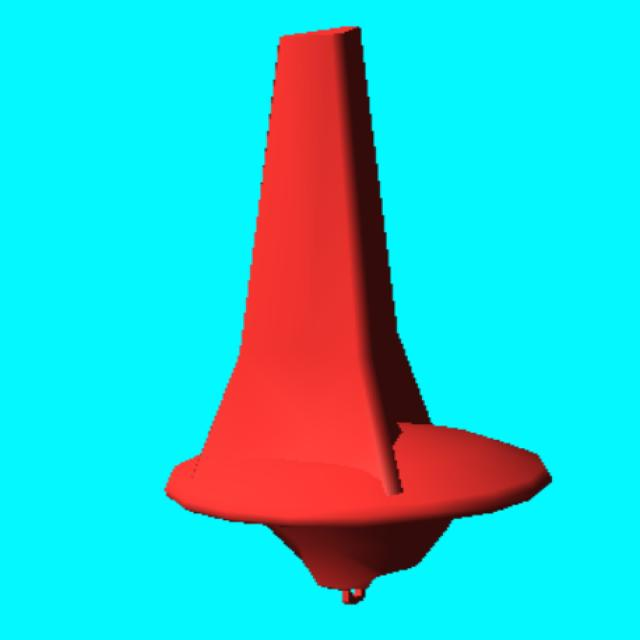RedBuoy: (167, 28, 550, 589)
